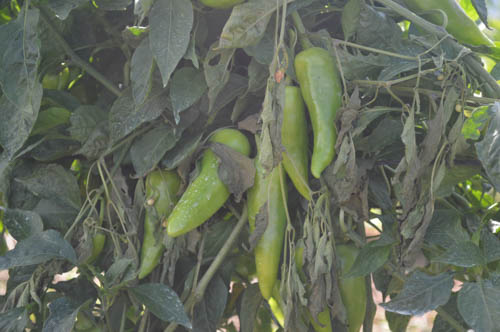ChiliPepper: (163, 129, 248, 244), (296, 50, 344, 177), (246, 159, 284, 305), (136, 172, 185, 282), (278, 85, 313, 197), (427, 2, 492, 52), (336, 244, 373, 329)
